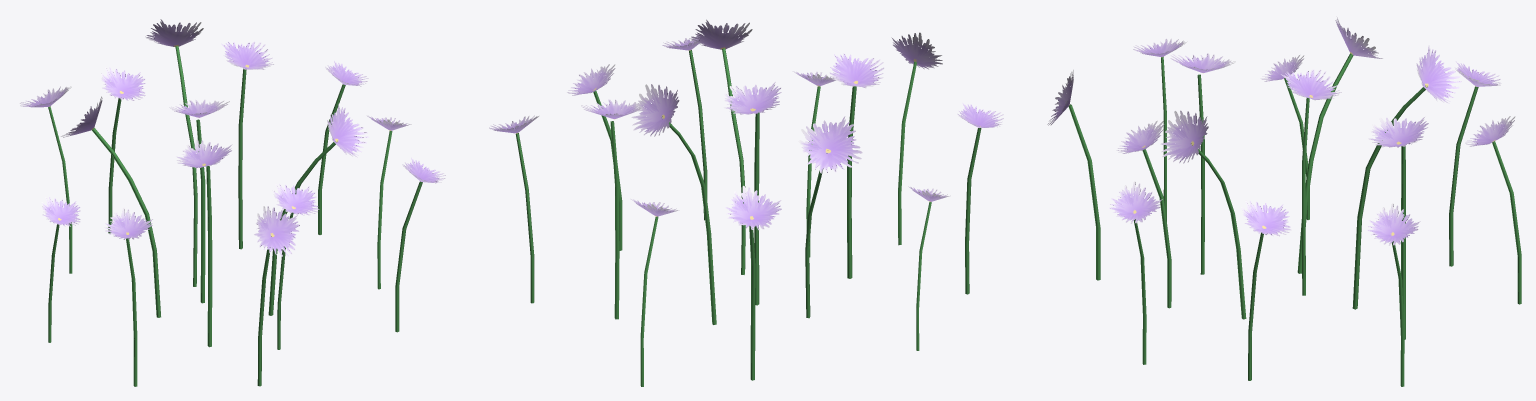
File: SM_flower_group_02.fbx
The picture shows the model from 3 angles, left to right: view 1: azimuth 30°, elevation 25°; view 2: azimuth 150°, elevation 25°; view 3: azimuth 270°, elevation 25°; orthographic projection. The views are drawn at different scales.
Parts seen in each view (by area): view 1: Cylinder007; view 2: Cylinder007; view 3: Cylinder007.
Part boxes in pixels (x1,y1,x2,y2): Cylinder007: [20, 19, 445, 386]; Cylinder007: [489, 19, 1003, 386]; Cylinder007: [1047, 17, 1521, 386].
Bounding box in the file's own units: 41.35 × 25.58 × 41.13.
